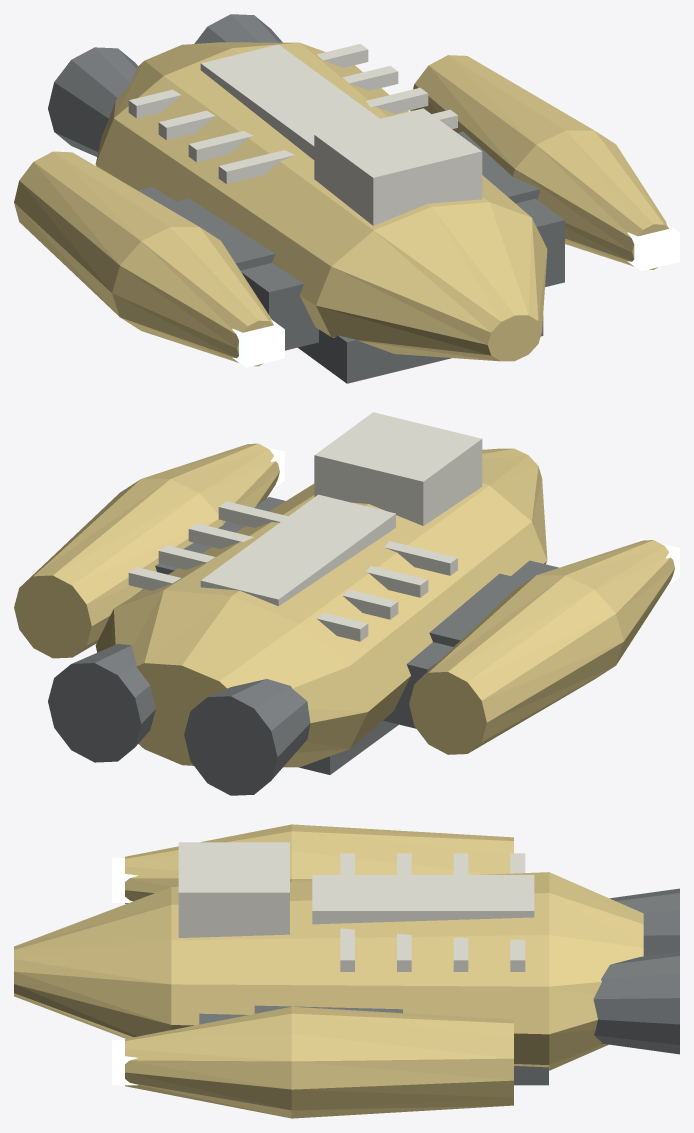
3 views of the same model, one above another, from view 1: azimuth 30°, elevation 25°; view 2: azimuth 150°, elevation 25°; view 3: azimuth 270°, elevation 25° (orthographic). The views are drawn at different scales.
Bounding box in the file's own units: 5.73 × 2.06 × 6.83.
